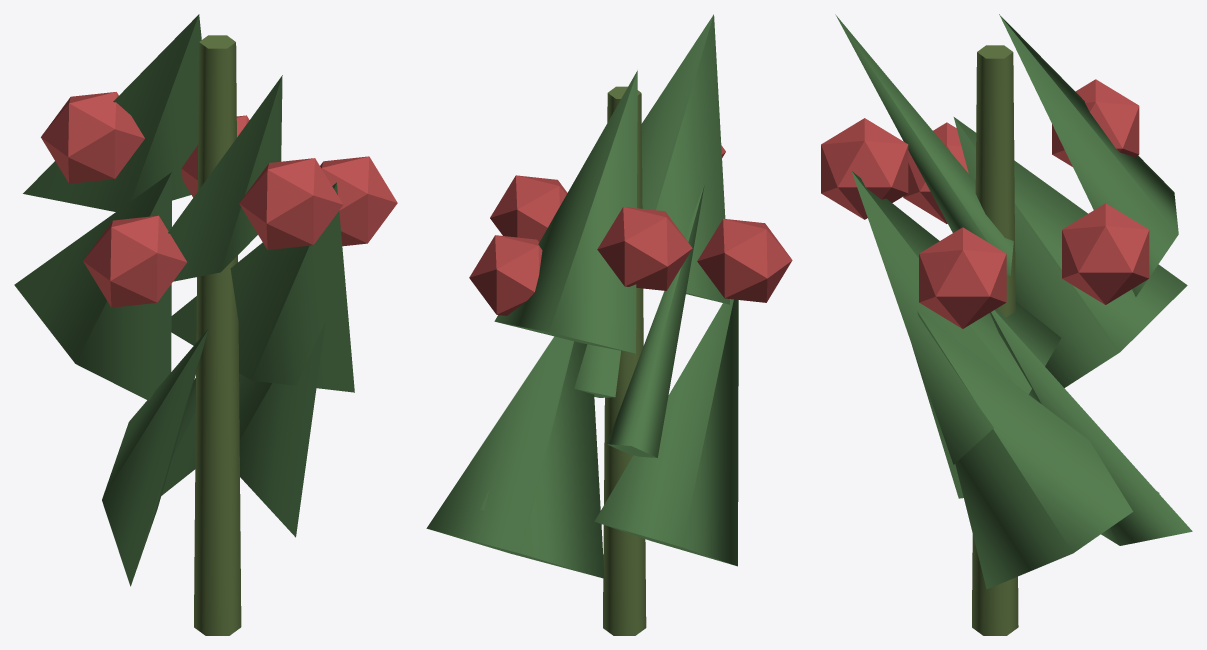
The model's file is crop-strawberry-stage-4-harvest-ready.source.glb.
3 views of the same model, side by side, from view 1: azimuth 30°, elevation 25°; view 2: azimuth 150°, elevation 25°; view 3: azimuth 270°, elevation 25° (orthographic). The views are drawn at different scales.
Visible parts, largest first — view 1: main-stem, leaf-2, leaf-5, leaf-6, leaf-4, leaf-3, leaf-1, fruit-2, fruit-3, fruit-4, fruit-1, leaf-7 (+1 smaller); view 2: leaf-7, leaf-4, leaf-6, leaf-3, main-stem, leaf-5, fruit-3, fruit-4, fruit-5, fruit-1, leaf-2; view 3: leaf-1, leaf-5, leaf-2, leaf-6, main-stem, leaf-7, leaf-3, fruit-5, fruit-1, fruit-2, fruit-4, fruit-3 (+1 smaller).
Part boxes in pixels (bbox=[...]): main-stem: bbox=[194, 35, 241, 635]; leaf-2: bbox=[171, 182, 354, 392]; leaf-5: bbox=[14, 172, 171, 400]; leaf-6: bbox=[23, 14, 201, 211]; leaf-4: bbox=[102, 328, 208, 586]; leaf-3: bbox=[168, 75, 282, 281]; leaf-1: bbox=[239, 322, 325, 537]; fruit-2: bbox=[239, 158, 343, 249]; fruit-3: bbox=[83, 215, 187, 307]; fruit-4: bbox=[41, 92, 144, 183]; fruit-1: bbox=[320, 156, 397, 246]; leaf-7: bbox=[161, 378, 195, 495]; leaf-7: bbox=[426, 336, 604, 578]; leaf-4: bbox=[594, 299, 738, 566]; leaf-6: bbox=[494, 70, 637, 353]; leaf-3: bbox=[641, 14, 729, 304]; main-stem: bbox=[603, 86, 646, 635]; leaf-5: bbox=[607, 184, 704, 457]; fruit-3: bbox=[697, 218, 792, 302]; fruit-4: bbox=[597, 207, 692, 290]; fruit-5: bbox=[469, 235, 542, 315]; fruit-1: bbox=[490, 175, 567, 242]; leaf-2: bbox=[574, 344, 620, 397]; leaf-1: bbox=[917, 311, 1159, 589]; leaf-5: bbox=[953, 117, 1187, 387]; leaf-2: bbox=[851, 171, 1061, 464]; leaf-6: bbox=[999, 14, 1178, 296]; main-stem: bbox=[972, 45, 1018, 635]; leaf-7: bbox=[990, 310, 1192, 545]; leaf-3: bbox=[835, 14, 1013, 275]; fruit-5: bbox=[1062, 203, 1149, 304]; fruit-1: bbox=[919, 227, 1006, 328]; fruit-2: bbox=[821, 118, 908, 219]; fruit-4: bbox=[1052, 79, 1139, 166]; fruit-3: bbox=[903, 122, 968, 223].
Bounding box in the file's own units: 0.3593 × 0.7156 × 0.3983.
